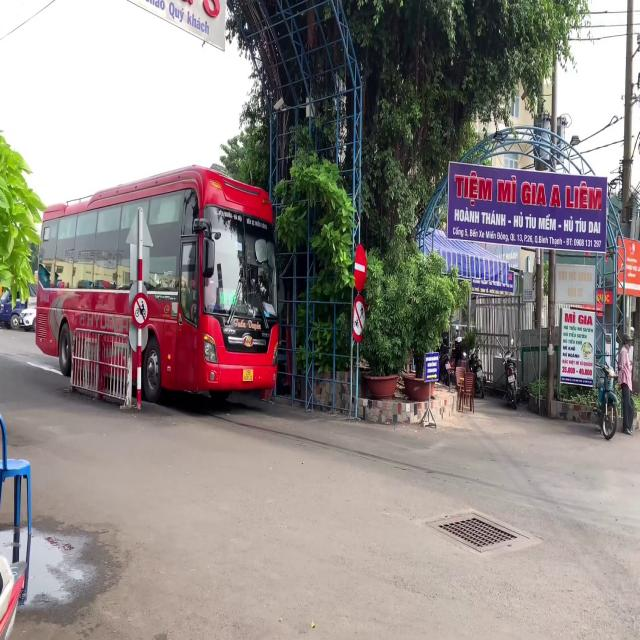bien_vang: (242, 369, 254, 382)
